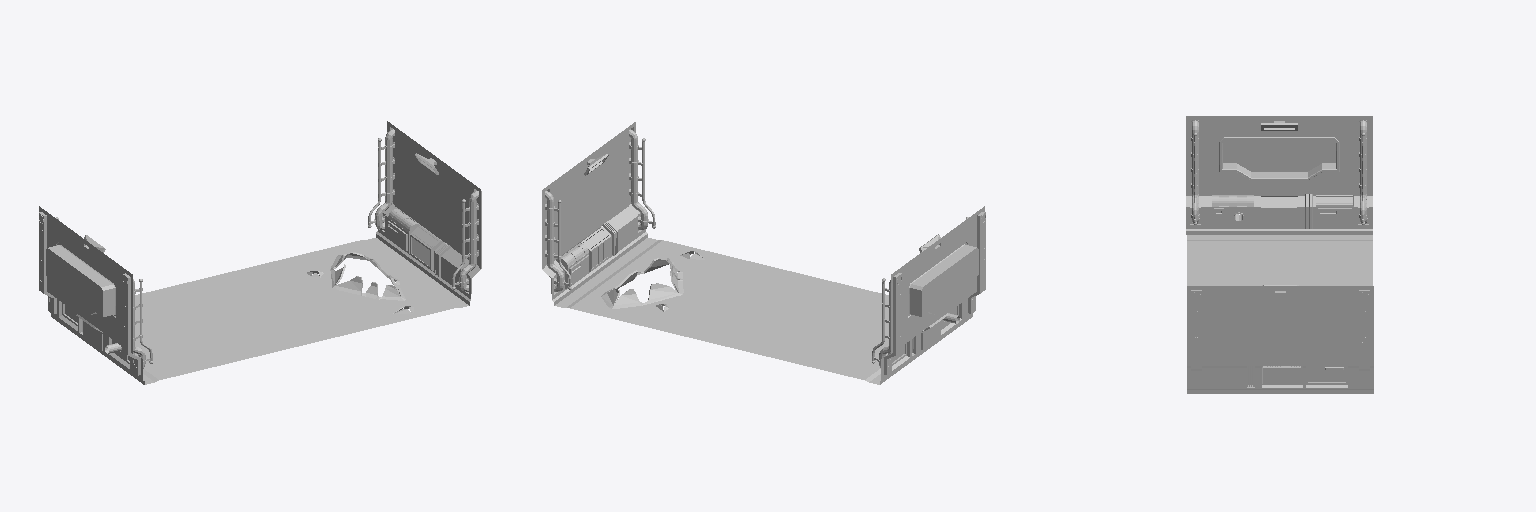
3 renders of one model, left to right at view 1: azimuth 30°, elevation 25°; view 2: azimuth 150°, elevation 25°; view 3: azimuth 270°, elevation 25°, orthographic.
Parts seen in each view (by area): view 1: Segment_6 Components Full_Templates Templates; view 2: Segment_6 Components Full_Templates Templates; view 3: Segment_6 Components Full_Templates Templates.
Part boxes in pixels (x1,y1,x2,y2): Segment_6 Components Full_Templates Templates: (39,121,481,384); Segment_6 Components Full_Templates Templates: (542,122,985,384); Segment_6 Components Full_Templates Templates: (1186,116,1373,393).
Size of the model in its own units: 40.27 by 12.06 by 18.1.